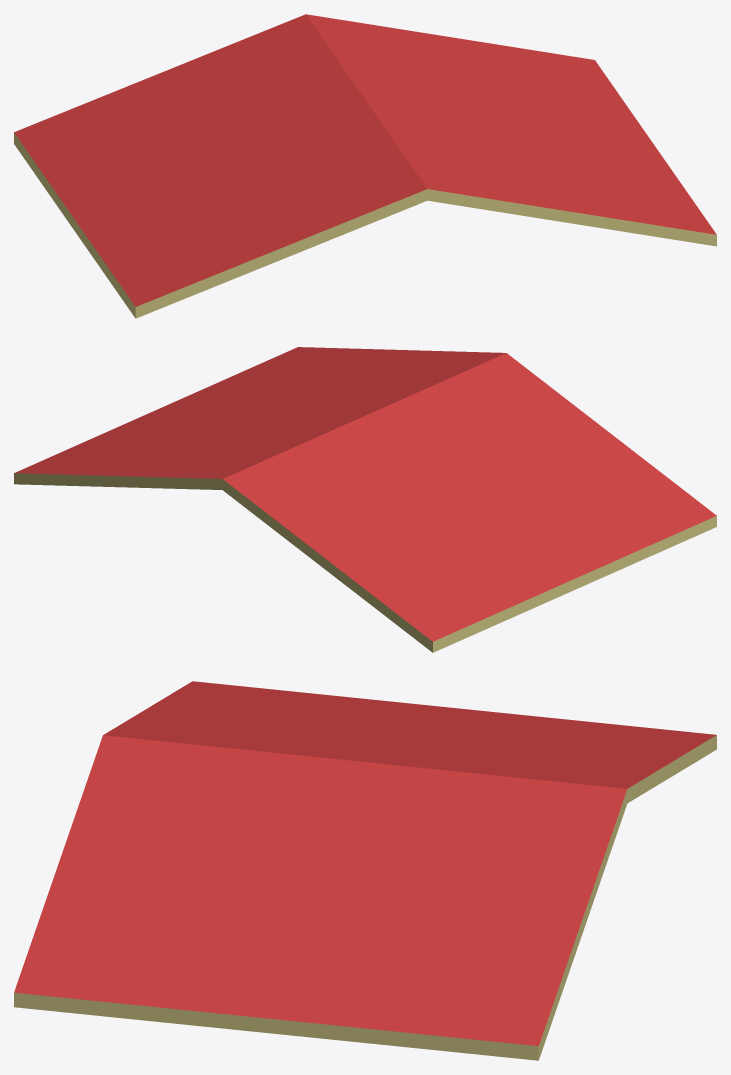
The picture shows the model from 3 angles, top to bottom: view 1: azimuth 30°, elevation 25°; view 2: azimuth 150°, elevation 25°; view 3: azimuth 270°, elevation 25°; orthographic projection. The views are drawn at different scales.
Visible parts, largest first — view 1: group_3, group_4; view 2: group_3, group_4; view 3: group_3, group_4.
Part boxes in pixels (x1=…): group_3: x1=14, y1=14, x2=716, y2=306; group_4: x1=14, y1=133, x2=716, y2=318; group_3: x1=14, y1=347, x2=716, y2=641; group_4: x1=14, y1=473, x2=716, y2=652; group_3: x1=14, y1=681, x2=716, y2=1045; group_4: x1=14, y1=735, x2=716, y2=1060.
Bounding box in the file's own units: 5.36 × 4.36 × 0.801.
